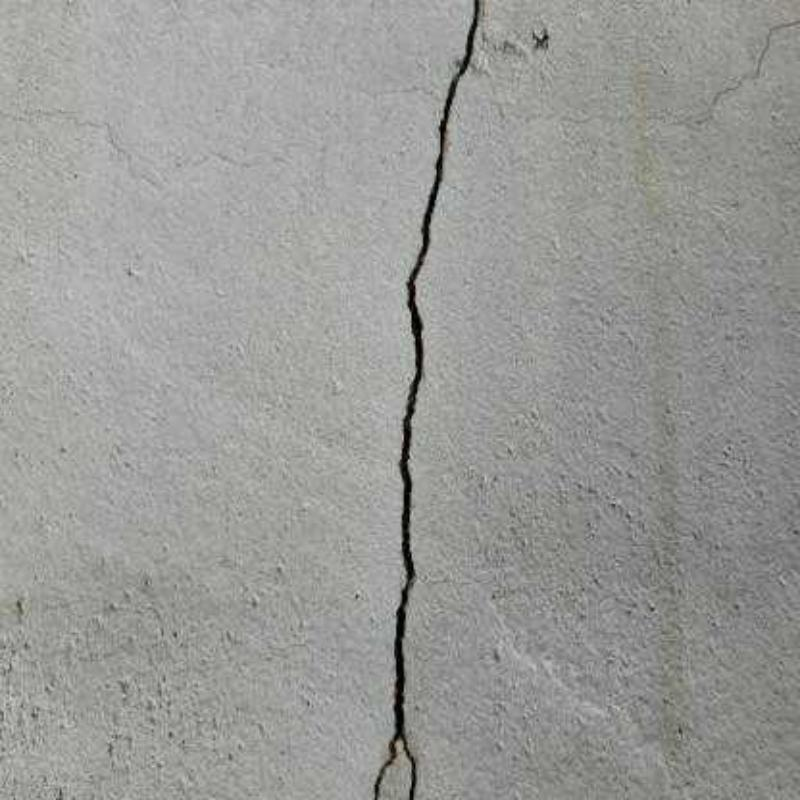pothole: (371, 0, 481, 800)
